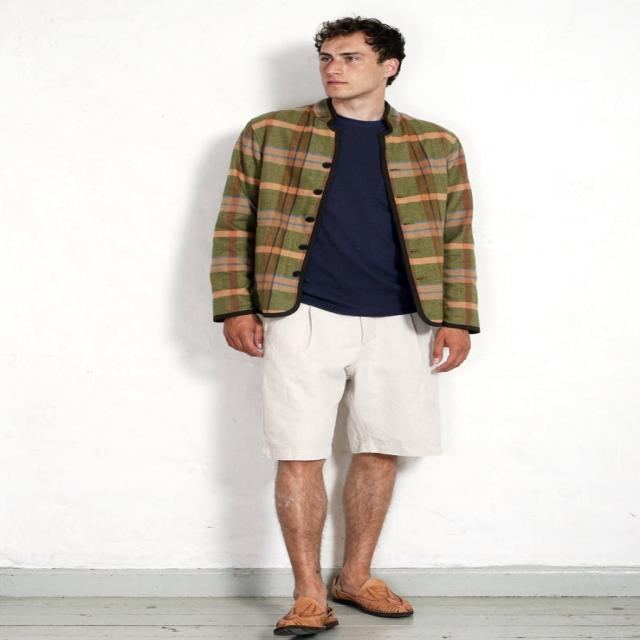plaid: (214, 107, 484, 341)
